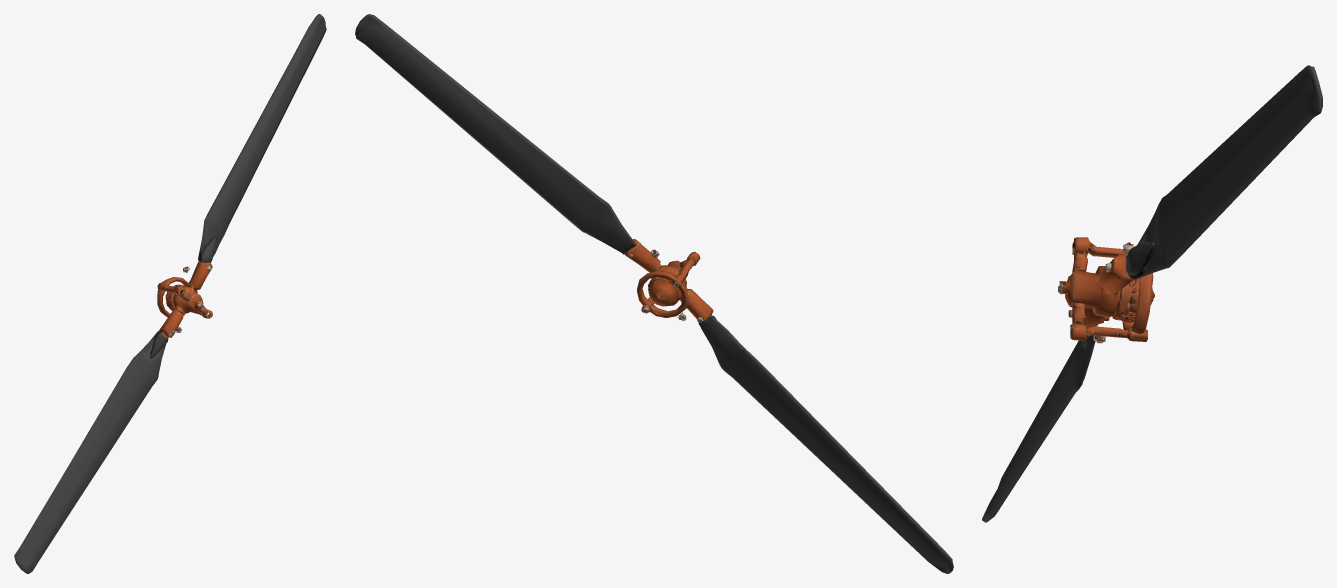
Rendered from main-rotor.glb.
The picture shows the model from 3 angles, left to right: view 1: azimuth 30°, elevation 25°; view 2: azimuth 150°, elevation 25°; view 3: azimuth 270°, elevation 25°; orthographic projection. The views are drawn at different scales.
Visible parts, largest first — view 1: Main rotor; view 2: Main rotor; view 3: Main rotor.
Part boxes in pixels (bbox=[...]): Main rotor: bbox=[14, 14, 326, 573]; Main rotor: bbox=[355, 14, 953, 573]; Main rotor: bbox=[982, 65, 1322, 522].
Size of the model in its own units: 0.998 by 0.998 by 0.377.
Materials: 1 (1 with a texture image).
